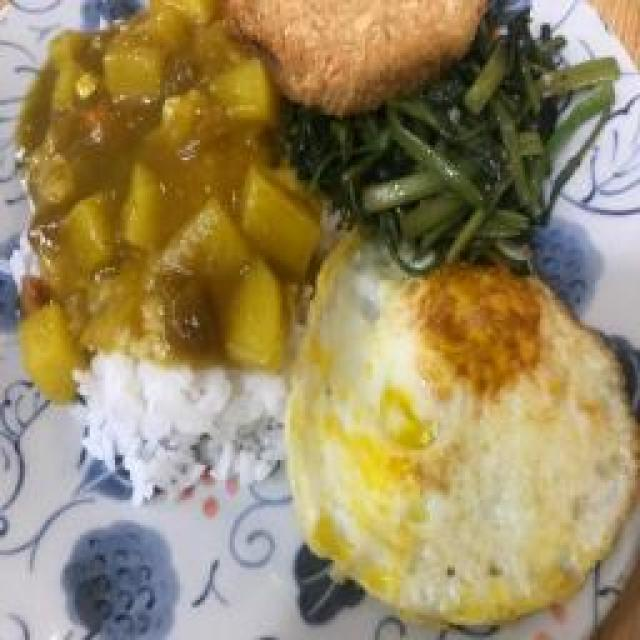Wet Waste: (290, 228, 630, 620), (17, 0, 297, 362), (315, 13, 597, 235), (82, 352, 288, 508)
